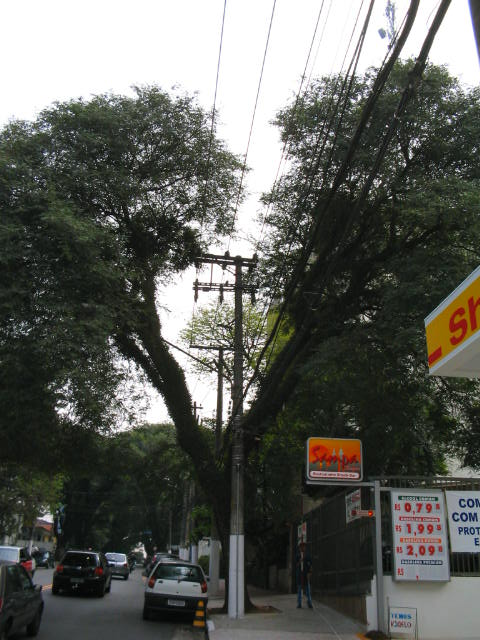crown: (4, 60, 476, 395)
stem: (189, 480, 263, 615)
stick: (295, 498, 308, 608)
tree: (1, 59, 477, 616)
